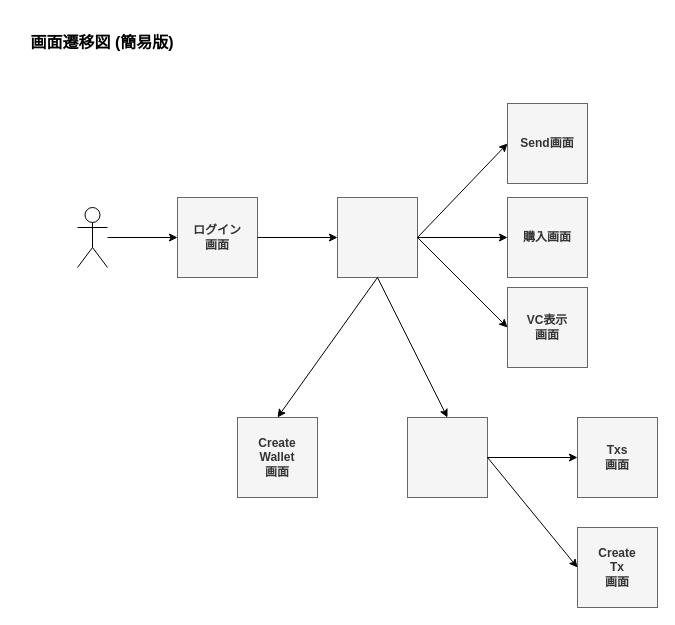
The diagram is 675 pixels wide and 625 high, and some of its shapes have lost their labels. The shapes that lost their labels are listed below. From the top down, each one's box as (x1, y1, x2, y2) in pixels, then its label:
(76, 206, 108, 268): ユーザー
(336, 196, 418, 278): Home 画面
(406, 416, 488, 498): Wallets 画面
